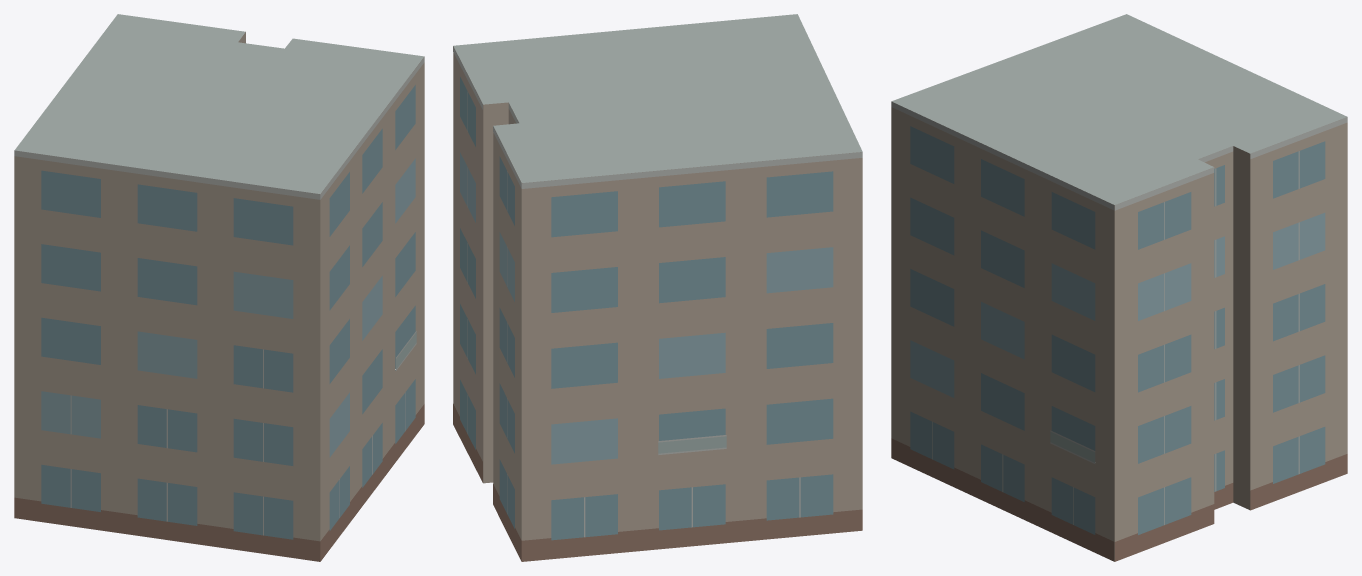
The model's file is survey-upis-32840187.glb.
3 renders of one model, left to right at view 1: azimuth 30°, elevation 25°; view 2: azimuth 150°, elevation 25°; view 3: azimuth 270°, elevation 25°, orthographic. The views are drawn at different scales.
Visible parts, largest first — view 1: survey-upis-32840187.tmp; view 2: survey-upis-32840187.tmp; view 3: survey-upis-32840187.tmp.
Boxes of the visible parts, box(x1,y1,x2,y2) form: survey-upis-32840187.tmp: box(14, 14, 424, 561); survey-upis-32840187.tmp: box(453, 14, 862, 561); survey-upis-32840187.tmp: box(891, 14, 1347, 561).
Bounding box in the file's own units: 17.94 × 15.6 × 18.1.
